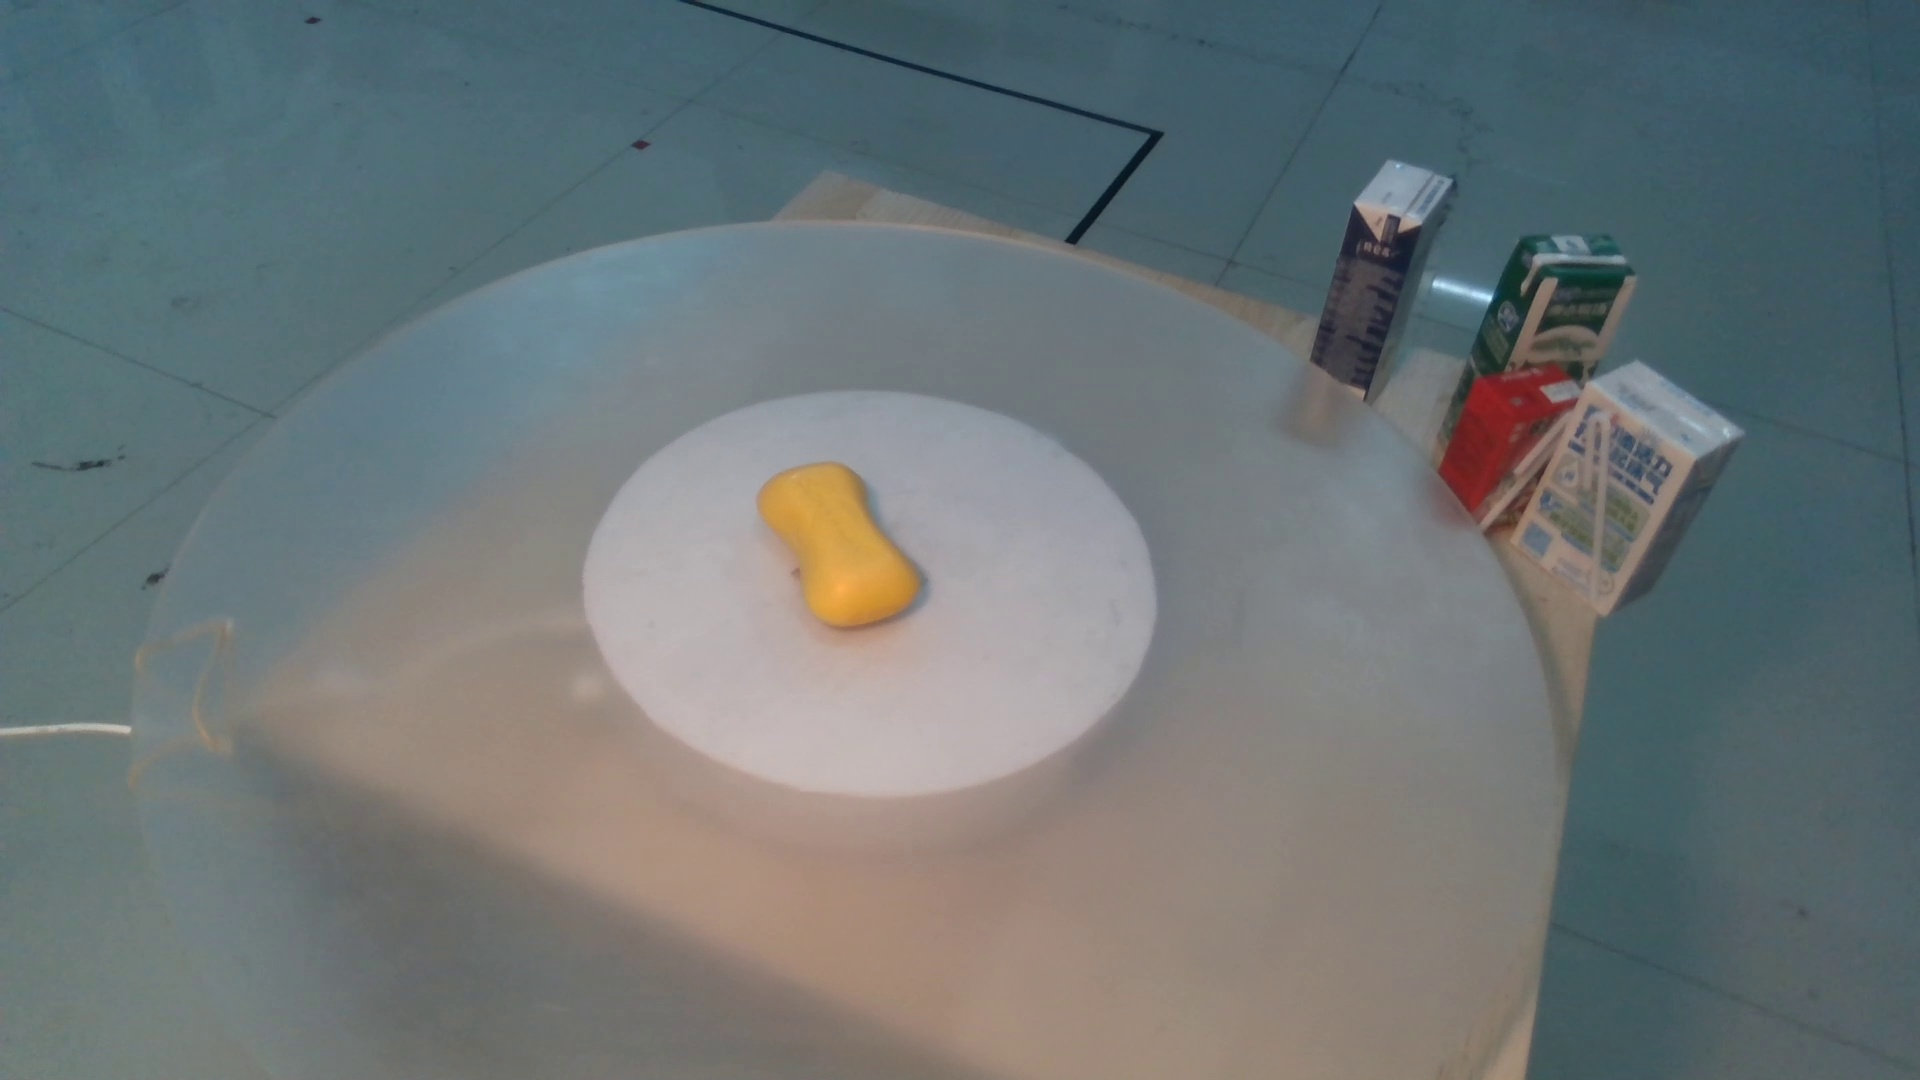CA003_1: (723, 440, 978, 630)
